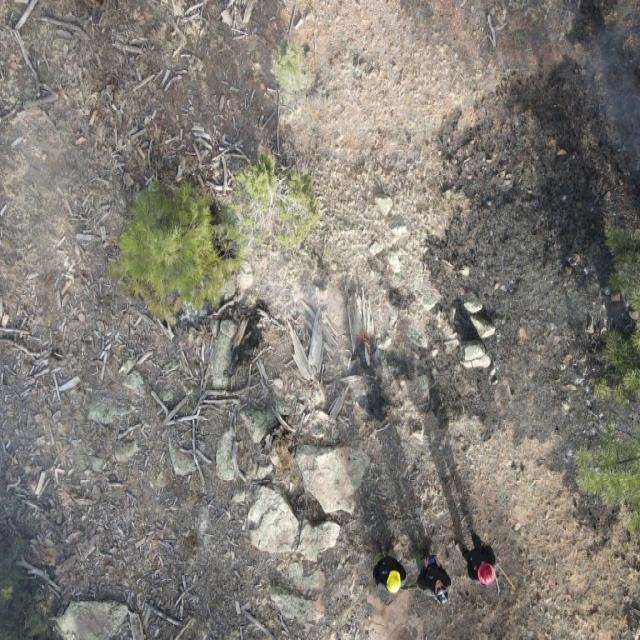fire: (354, 328, 378, 359)
smoke: (220, 186, 426, 390), (2, 37, 118, 339), (479, 0, 640, 179)
